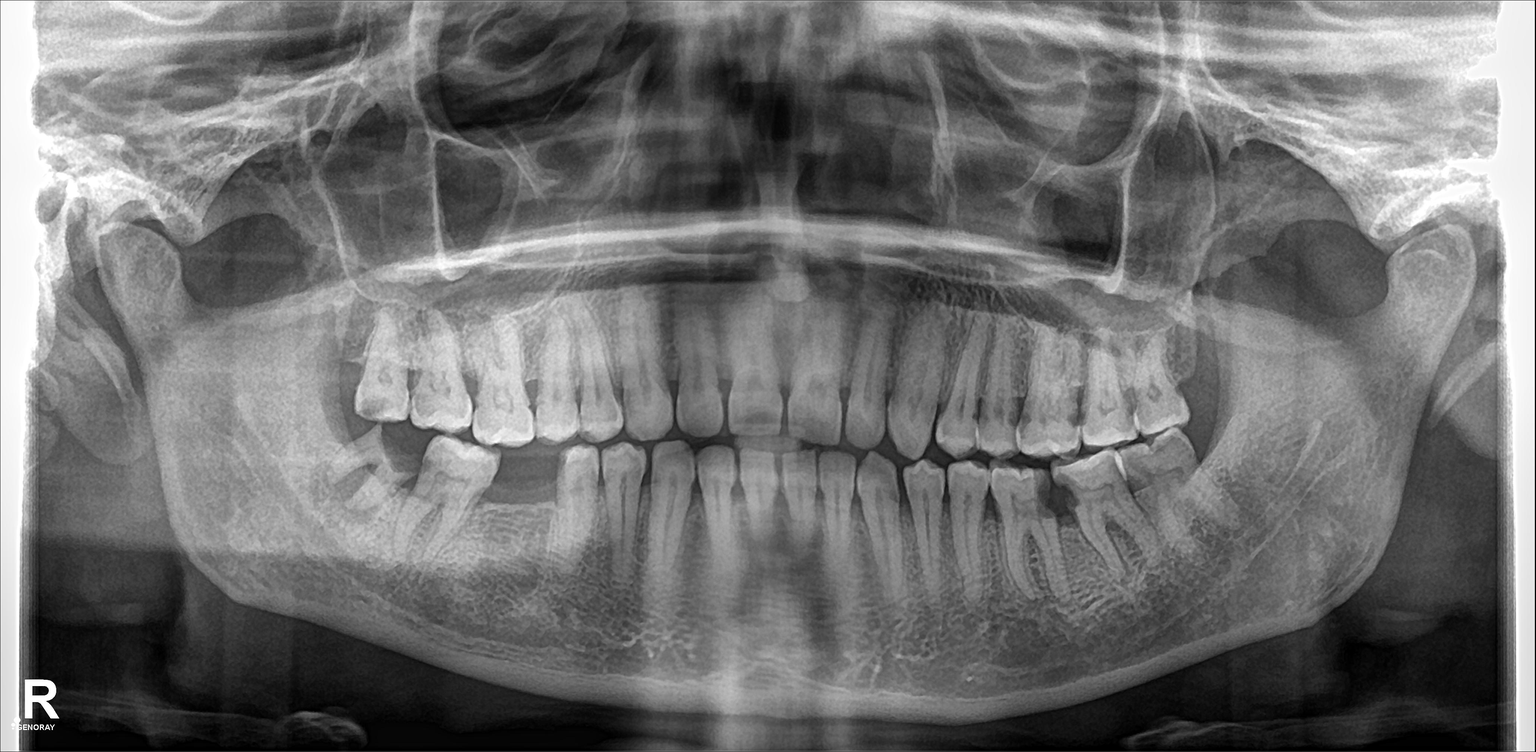Dental Caries: (1035, 475, 1089, 523), (1125, 387, 1137, 419)
Impacted Third Molar: (335, 434, 417, 496)
Missing Tooth: (494, 454, 559, 565)
